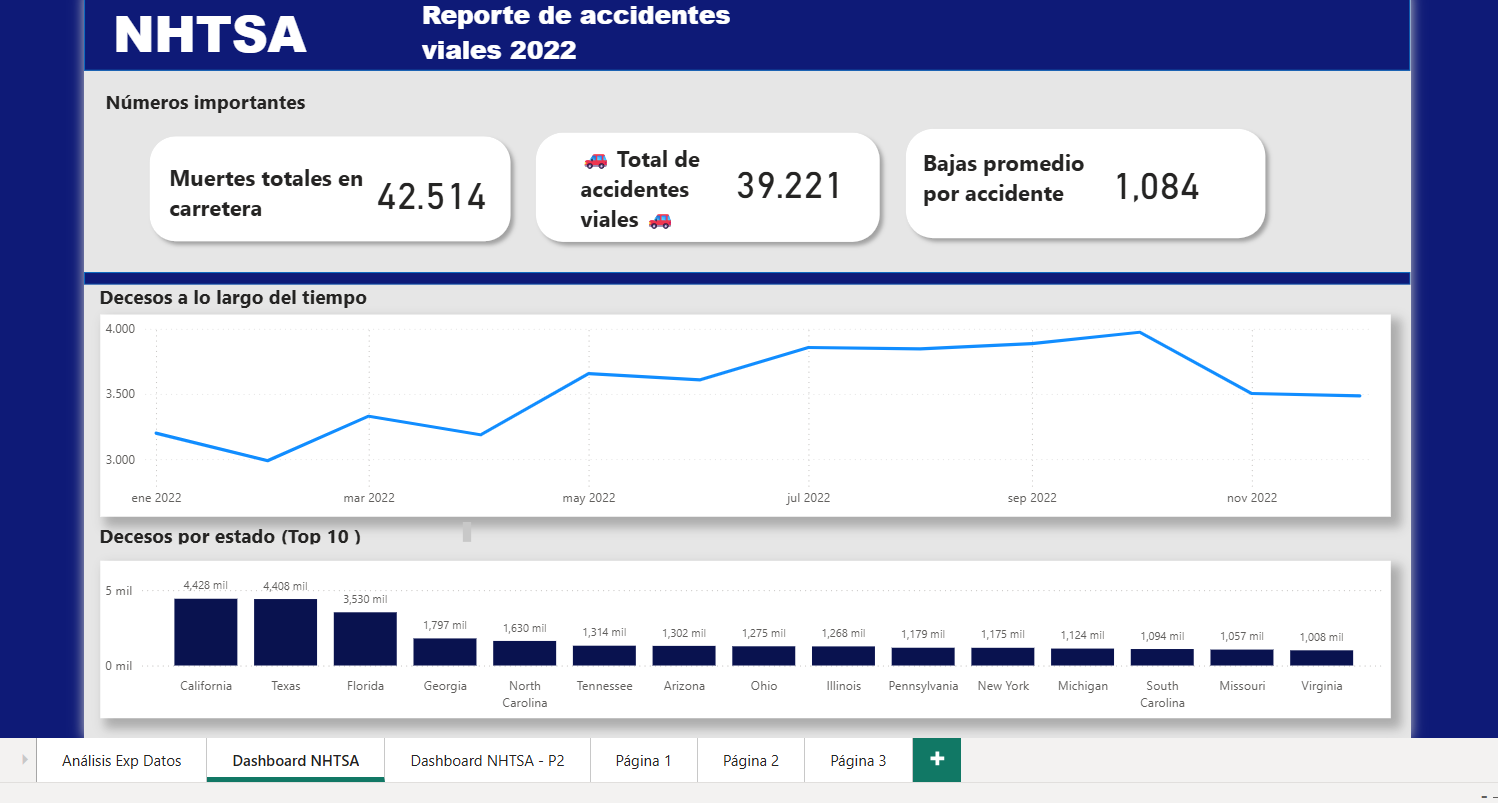

What the dashboard file says about the page in this screenshot:
{"tool":"powerbi","page":{"name":"Dashboard NHTSA","canvas":[1280,720],"ordinal":1},"visuals":[{"type":"shape","box":[0,0,1280,76],"z":0},{"type":"shape","box":[784,123.2,365,123.5],"z":0,"group":"g3"},{"type":"shape","box":[426.8,126.2,349.9,123.5],"z":0,"group":"g2"},{"type":"shape","box":[54.9,130.4,366.4,119.4],"z":0,"group":"g1"},{"type":"textbox","box":[23.3,0,227.8,81],"z":1000},{"type":"textbox","box":[321.1,0,323.8,91.9],"z":2000},{"type":"group","id":"g1","title":"Grupo 1","box":[54.9,130.4,366.4,119.4],"z":3000},{"type":"group","id":"g2","title":"Grupo 1","box":[426.8,126.2,349.9,123.5],"z":4000},{"type":"card","fields":{"Values":["CountNonNull(Accidentes USA 2022.Decesos)"]},"box":[593.2,138.2,175.6,87.8],"z":4000,"group":"g2"},{"type":"card","fields":{"Values":["Avg(Accidentes USA 2022.Decesos)"]},"box":[952,145,166.4,79],"z":4000,"group":"g3"},{"type":"card","fields":{"Values":["Sum(Accidentes USA 2022.Decesos)"]},"box":[253.9,154.6,164.7,77.5],"z":4000,"group":"g1"},{"type":"group","id":"g3","title":"Grupo 1","box":[784,123.2,365,123.5],"z":5000},{"type":"textbox","box":[473.8,141,175.6,101.5],"z":5000,"group":"g2"},{"type":"textbox","box":[804.5,144.7,173.7,88.1],"z":5000,"group":"g3"},{"type":"textbox","box":[78,158.9,210.7,83.1],"z":5000,"group":"g1"},{"type":"textbox","box":[15.7,88.1,220.8,38.6],"z":6000},{"type":"shape","box":[0,270.3,1280.3,12.3],"z":7000},{"type":"areaChart","fields":{"Y":["Sum(Accidentes USA 2022.Decesos)"],"Category":["Fecha.Date.Variación.Jerarquía de fechas.Año","Fecha.Date.Variación.Jerarquía de fechas.Mes"]},"box":[15.1,311.5,1246,194.9],"z":8000},{"type":"textbox","box":[9.7,276.3,298,44.6],"z":9000},{"type":"clusteredColumnChart","fields":{"Category":["Accidentes USA 2022.Nombre de Estado"],"Y":["Sum(Accidentes USA 2022.Decesos)"]},"box":[15.1,548.9,1246,152.3],"z":10000},{"type":"textbox","box":[9.6,506.3,369.1,31.6],"z":11000}]}

Visuals, with their boxes on the page's 1280x720 design canvas (x1, y1, x2, y2). These are canvas units, not pixel positions in the 1498x803 screenshot, which may show the page scaled, cropped or inside an application window:
shape: 0,0,1280,76
shape: 784,123,1149,247
shape: 427,126,777,250
shape: 55,130,421,250
textbox: 23,0,251,81
textbox: 321,0,645,92
"Grupo 1" group: 55,130,421,250
"Grupo 1" group: 427,126,777,250
card - CountNonNull(Accidentes USA 2022.Decesos): 593,138,769,226
card - Avg(Accidentes USA 2022.Decesos): 952,145,1118,224
card - Sum(Accidentes USA 2022.Decesos): 254,155,419,232
"Grupo 1" group: 784,123,1149,247
textbox: 474,141,649,242
textbox: 804,145,978,233
textbox: 78,159,289,242
textbox: 16,88,236,127
shape: 0,270,1280,283
areaChart - Sum(Accidentes USA 2022.Decesos) x Fecha.Date.Variación.Jerarquía de fechas.Año: 15,312,1261,506
textbox: 10,276,308,321
clusteredColumnChart - Accidentes USA 2022.Nombre de Estado x Sum(Accidentes USA 2022.Decesos): 15,549,1261,701
textbox: 10,506,379,538
